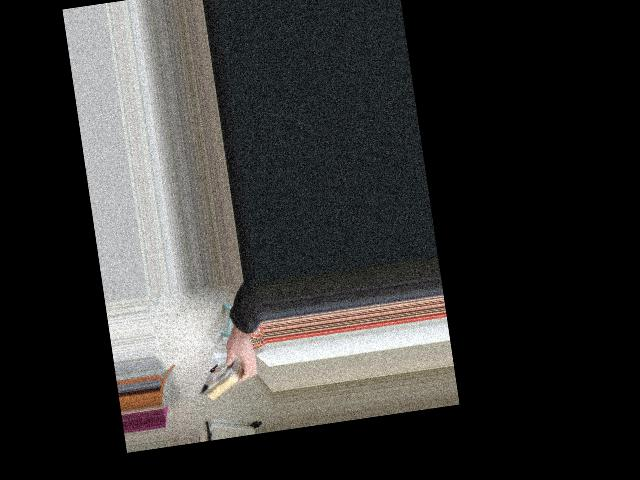cheese: (185, 341, 269, 412)
